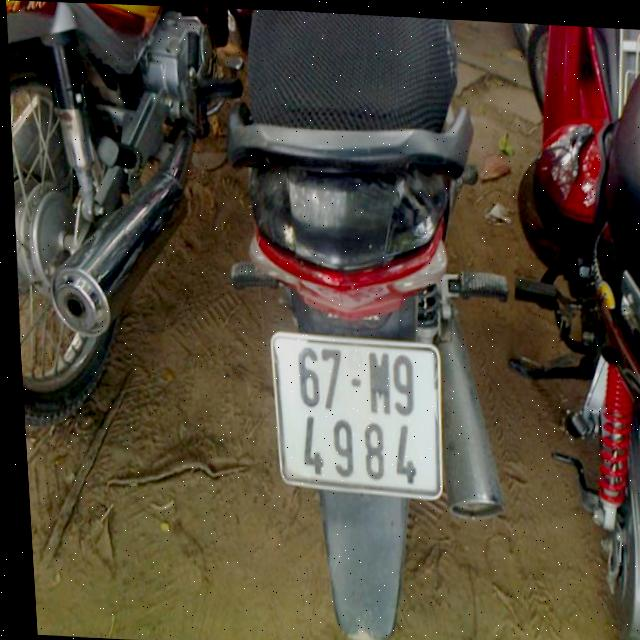motorcycle: (221, 8, 532, 640), (0, 0, 262, 449), (490, 22, 640, 640)
plate: (263, 326, 445, 502)
